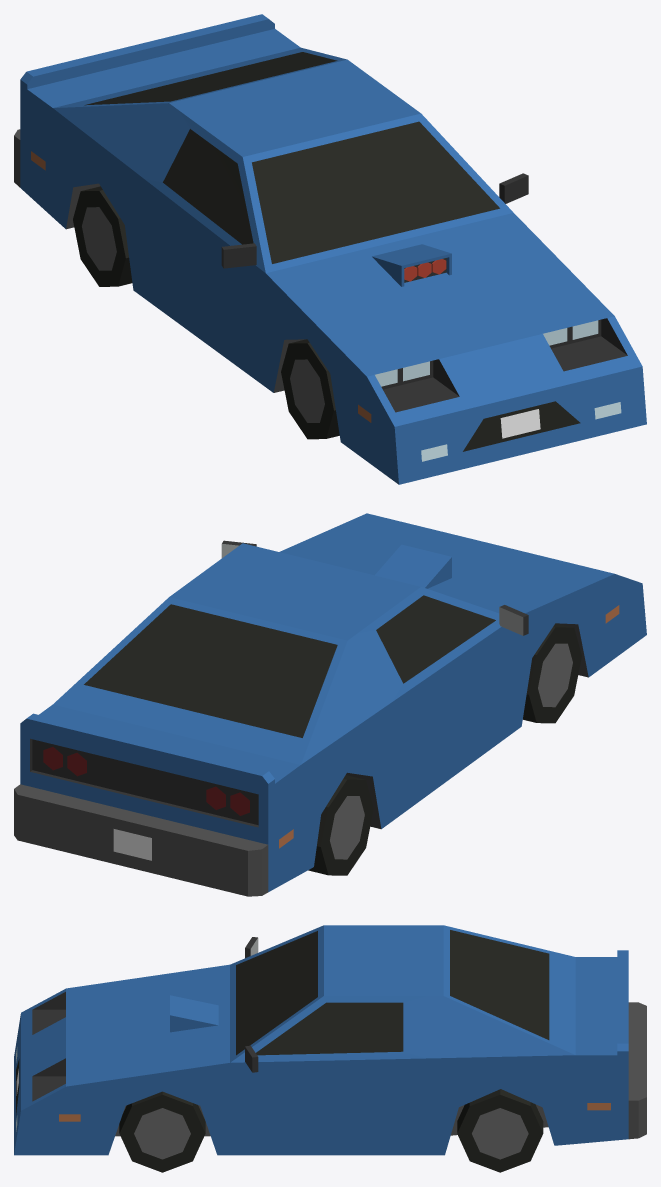
File: Veh_Muscle_Car_03_Blue.glb
3 renders of one model, top to bottom at view 1: azimuth 30°, elevation 25°; view 2: azimuth 150°, elevation 25°; view 3: azimuth 270°, elevation 25°, orthographic. The views are drawn at different scales.
Parts seen in each view (by area): view 1: Muscle_Car_03_Blue, Wheel_RR, Wheel_FR; view 2: Muscle_Car_03_Blue, Wheel_RR, Wheel_FR; view 3: Muscle_Car_03_Blue, Wheel_RL, Wheel_FL.
Boxes of the visible parts, x1=… form: Muscle_Car_03_Blue: x1=14, y1=14, x2=646, y2=484; Wheel_RR: x1=73, y1=186, x2=132, y2=286; Wheel_FR: x1=281, y1=339, x2=339, y2=439; Muscle_Car_03_Blue: x1=14, y1=513, x2=646, y2=896; Wheel_RR: x1=308, y1=775, x2=373, y2=875; Wheel_FR: x1=523, y1=623, x2=581, y2=723; Muscle_Car_03_Blue: x1=14, y1=925, x2=646, y2=1155; Wheel_RL: x1=457, y1=1089, x2=543, y2=1172; Wheel_FL: x1=119, y1=1091, x2=205, y2=1172.
Size of the model in its own units: 1.24 by 0.7814 by 2.75.
Materials: 1 (1 with a texture image).
